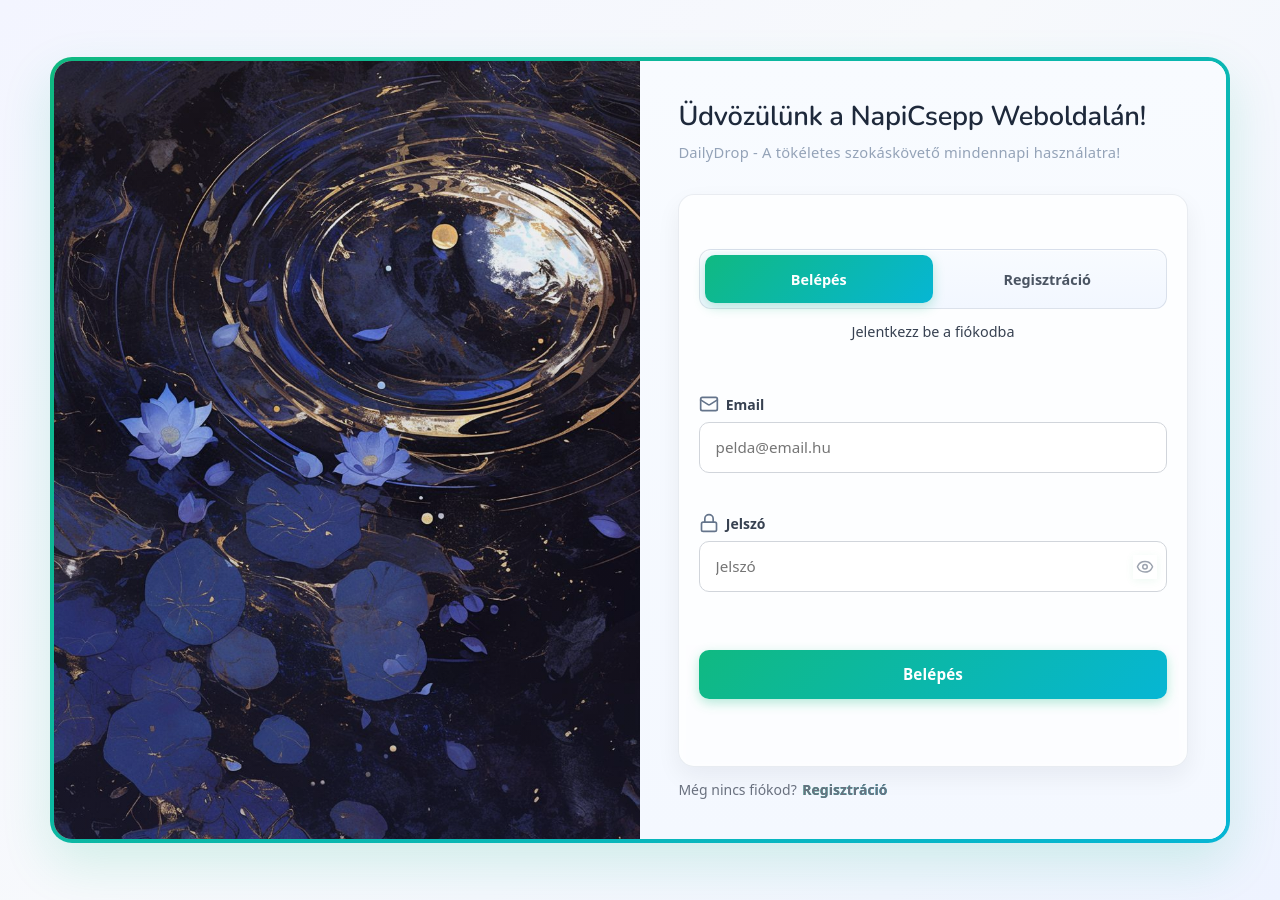
Test: Login oldal › 10 - Hibás bejelentkezés hibaüzenetet jelenít meg
Type "rossz@email.hu" into the field with placeholder "pelda@email.hu" at (934, 448), box [699,422,1168,473]
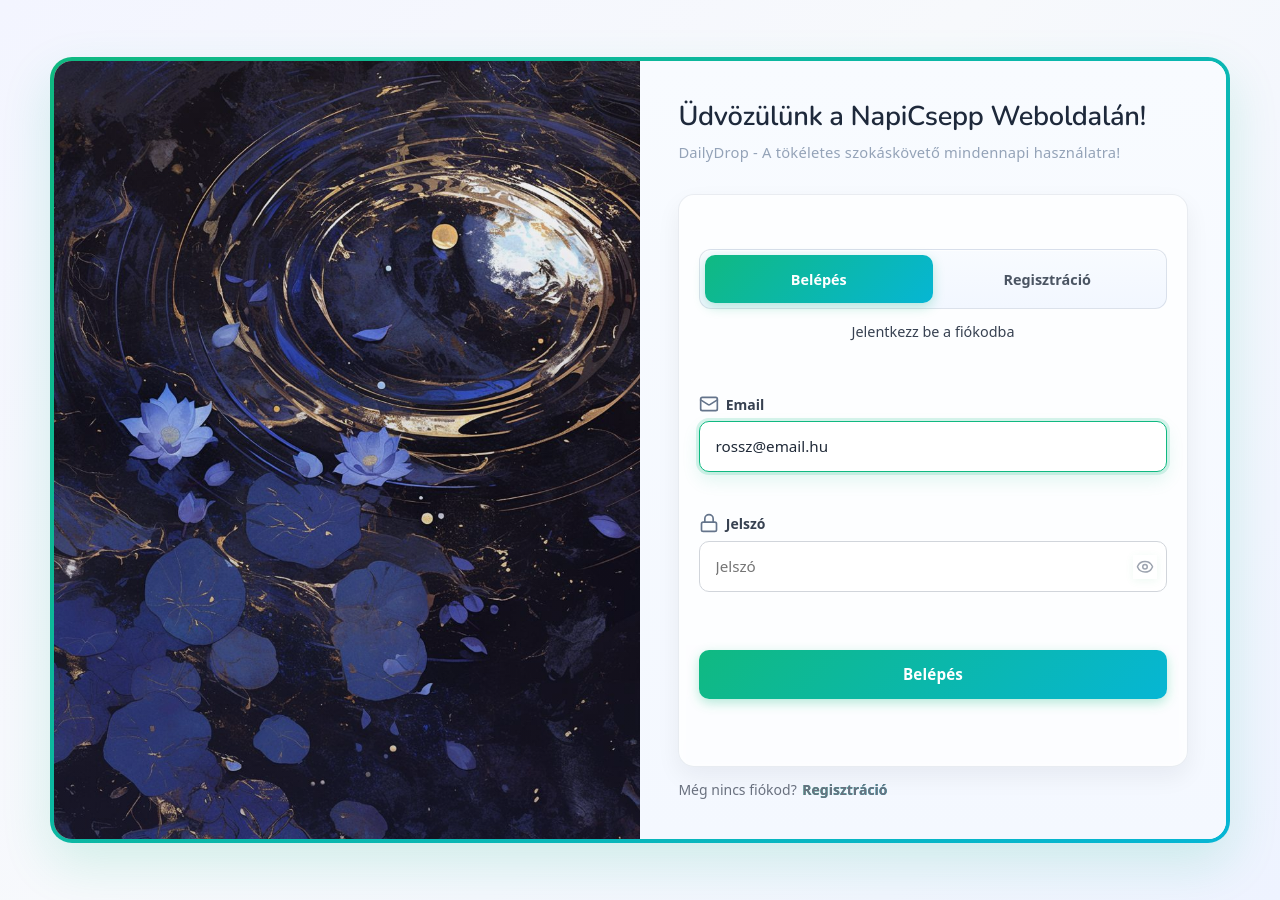
Type "rosszjelszo" into the password field with placeholder "Jelszó" at (934, 567), box [699,541,1168,592]
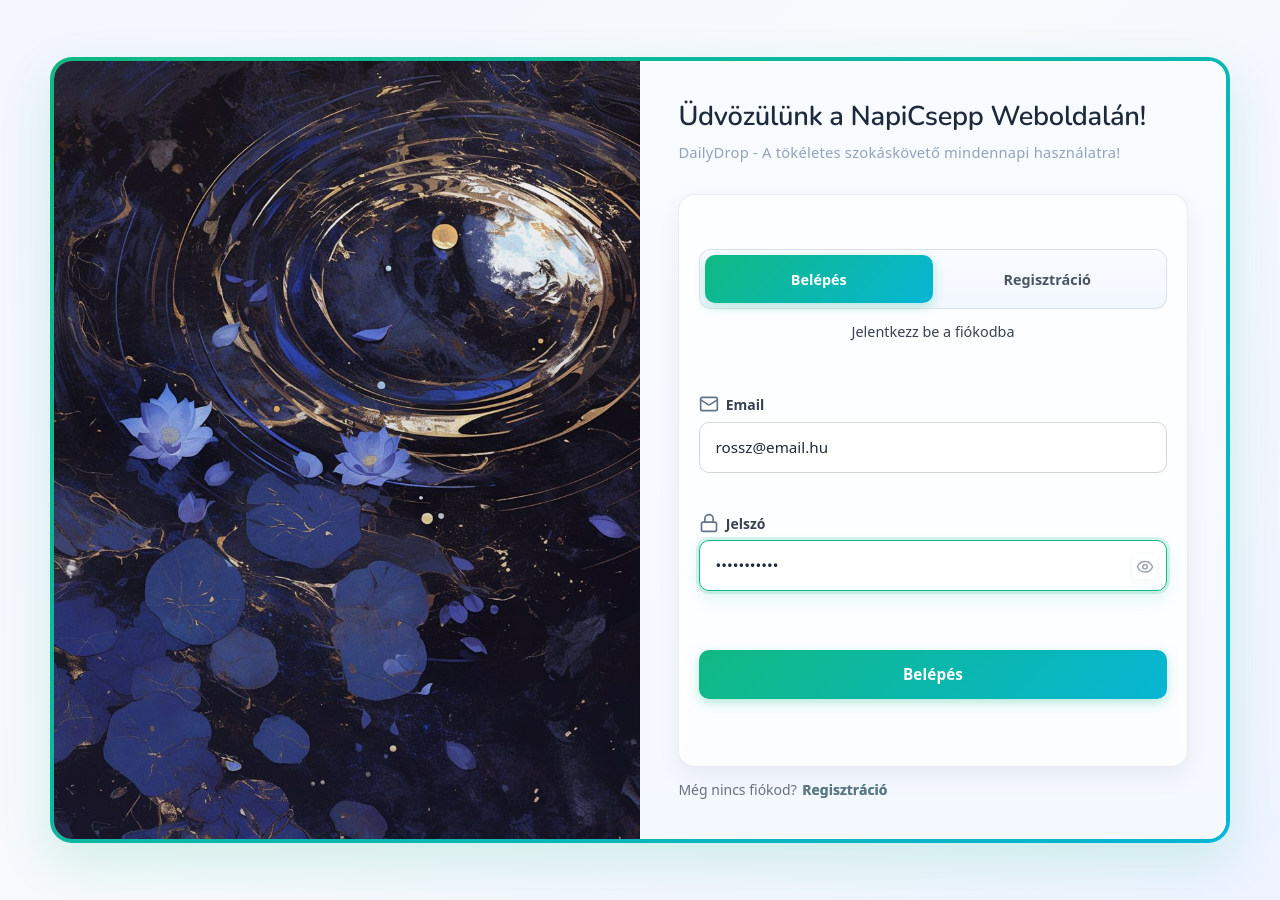
Click the submit button at (934, 675), box [699,650,1168,699]
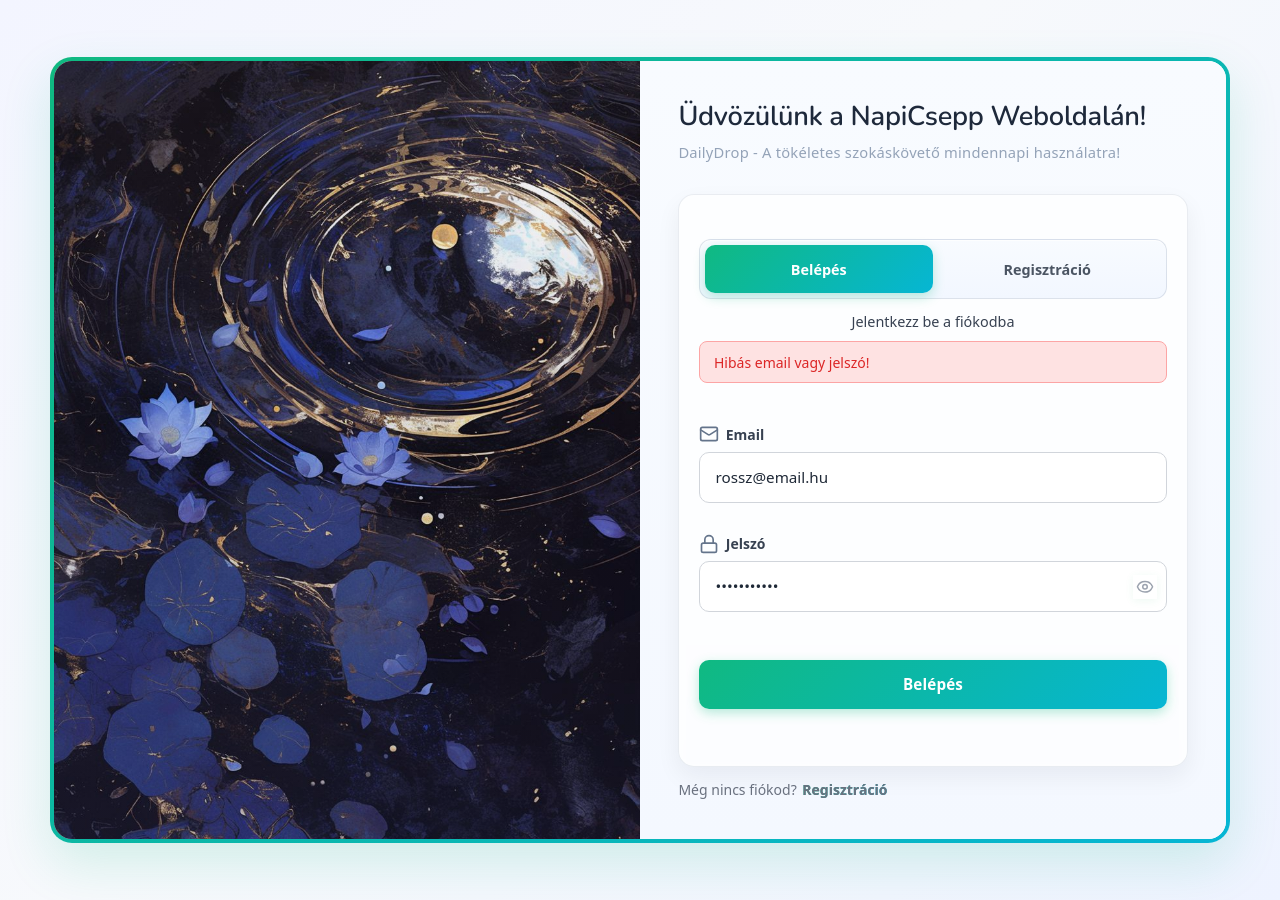
Expected: the text "Hibás email vagy jelszó!" is shown, [699,341,1167,383]
